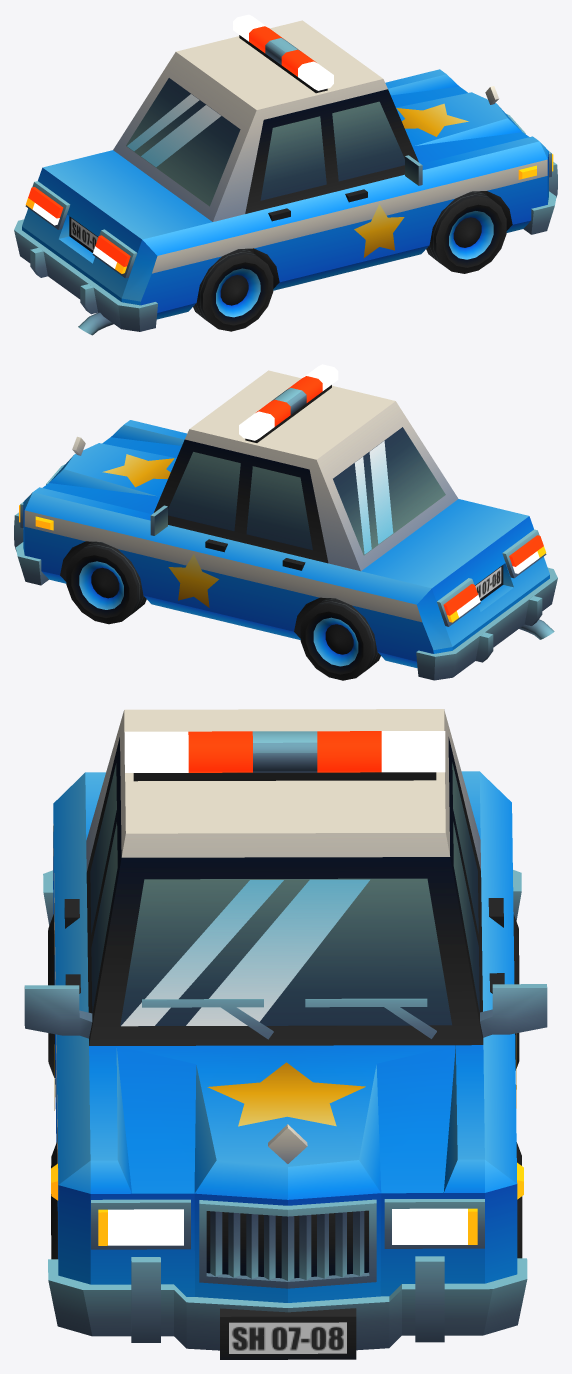
The picture shows the model from 3 angles, top to bottom: view 1: azimuth 30°, elevation 25°; view 2: azimuth 150°, elevation 25°; view 3: azimuth 270°, elevation 25°; orthographic projection. The views are drawn at different scales.
Parts seen in each view (by area): view 1: SHTV_Model_Car_Police; view 2: SHTV_Model_Car_Police; view 3: SHTV_Model_Car_Police.
Boxes of the visible parts, <box> form: SHTV_Model_Car_Police: <box>14,14,557,335</box>; SHTV_Model_Car_Police: <box>14,364,557,680</box>; SHTV_Model_Car_Police: <box>24,709,547,1359</box>.
Size of the model in its own units: 1.74 by 0.7668 by 0.8375.
Materials: 1 (1 with a texture image).
